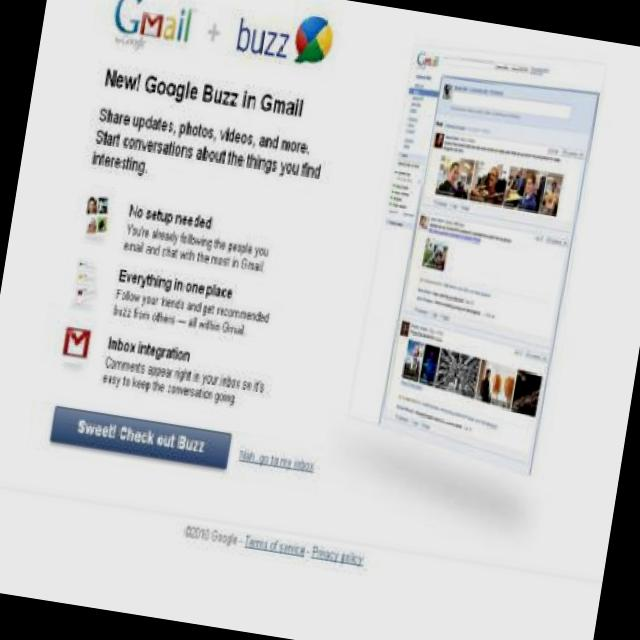Person: (470, 160, 506, 201), (515, 171, 542, 208), (538, 179, 560, 215), (440, 160, 462, 194), (478, 367, 496, 402), (418, 213, 430, 231), (442, 86, 452, 100), (435, 132, 444, 146), (401, 323, 409, 335)
